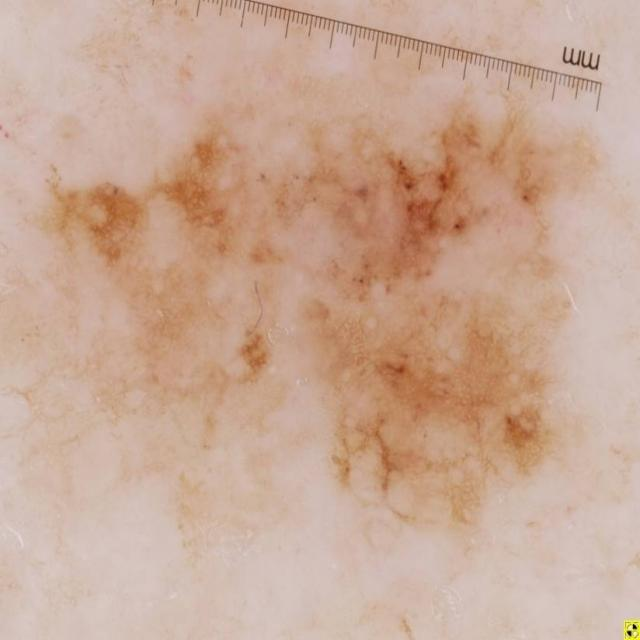Melanoma: (16, 114, 617, 535)
